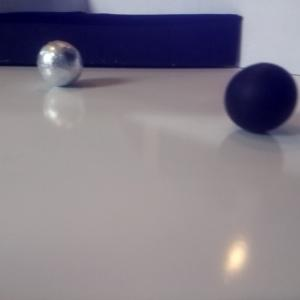zone: (1, 11, 238, 68)
